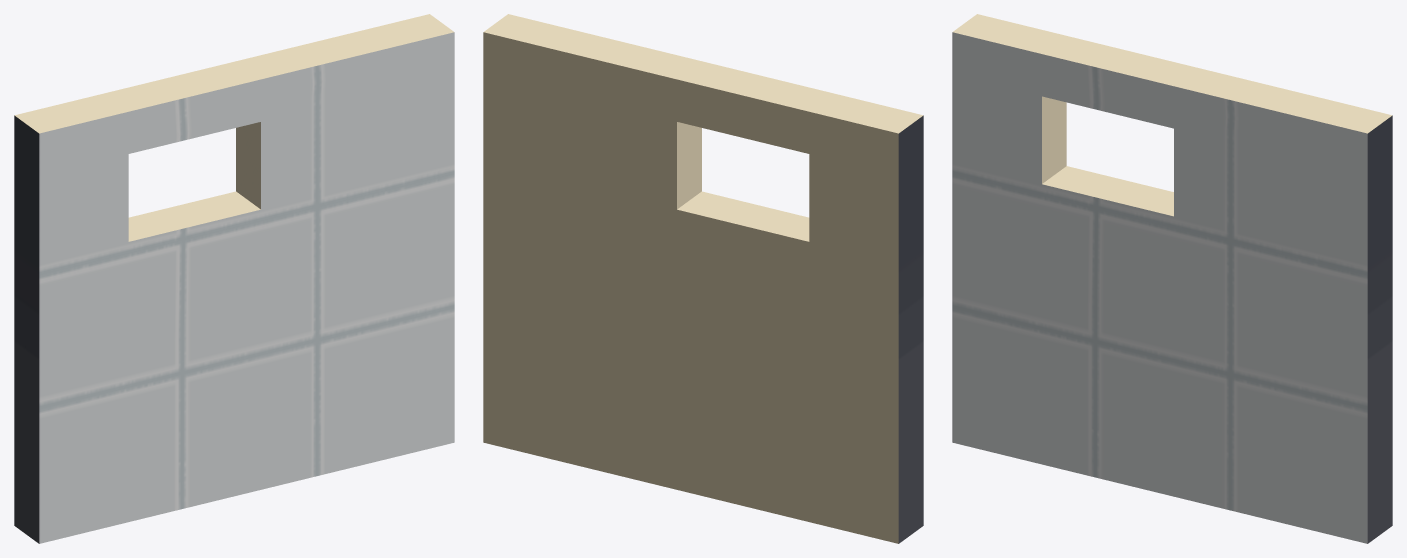
Rendered from BathroomWall with hole (for vent).fbx.
The picture shows the model from 3 angles, left to right: view 1: azimuth 30°, elevation 25°; view 2: azimuth 150°, elevation 25°; view 3: azimuth 330°, elevation 25°; orthographic projection.
Visible parts, largest first — view 1: Bathroom Walls.002; view 2: Bathroom Walls.002; view 3: Bathroom Walls.002.
Part boxes in pixels (x1,y1,x2,y2): Bathroom Walls.002: (14,14,454,543); Bathroom Walls.002: (483,14,923,543); Bathroom Walls.002: (952,14,1392,543).
Size of the model in its own units: 1675 by 1581 by 174.
